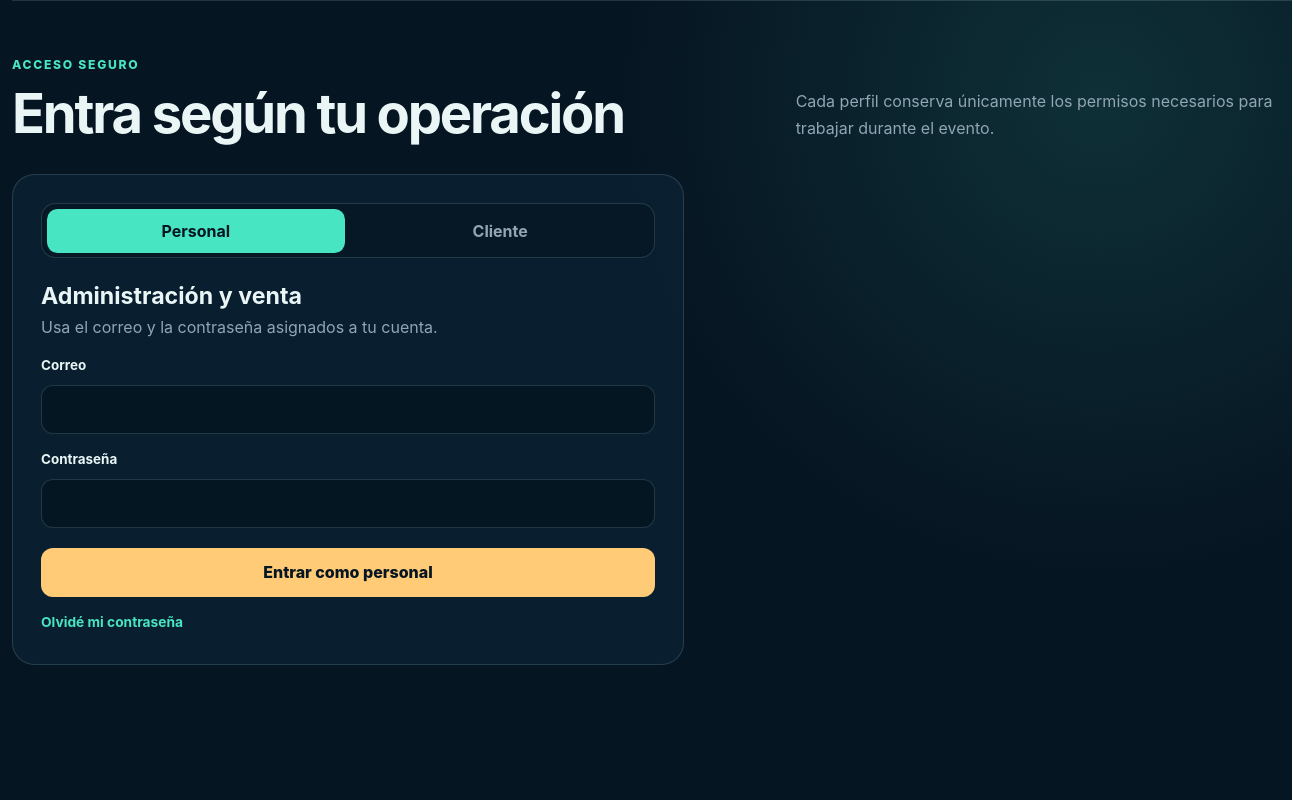
Test: AccessPortal › separa el acceso de personal y cliente e informa la vigencia temporal
Check: the heading "Administración y venta" is shown, box [41,282,302,310]
Click the tab "Cliente" at {"x": 500, "y": 231}, box [351,209,649,253]
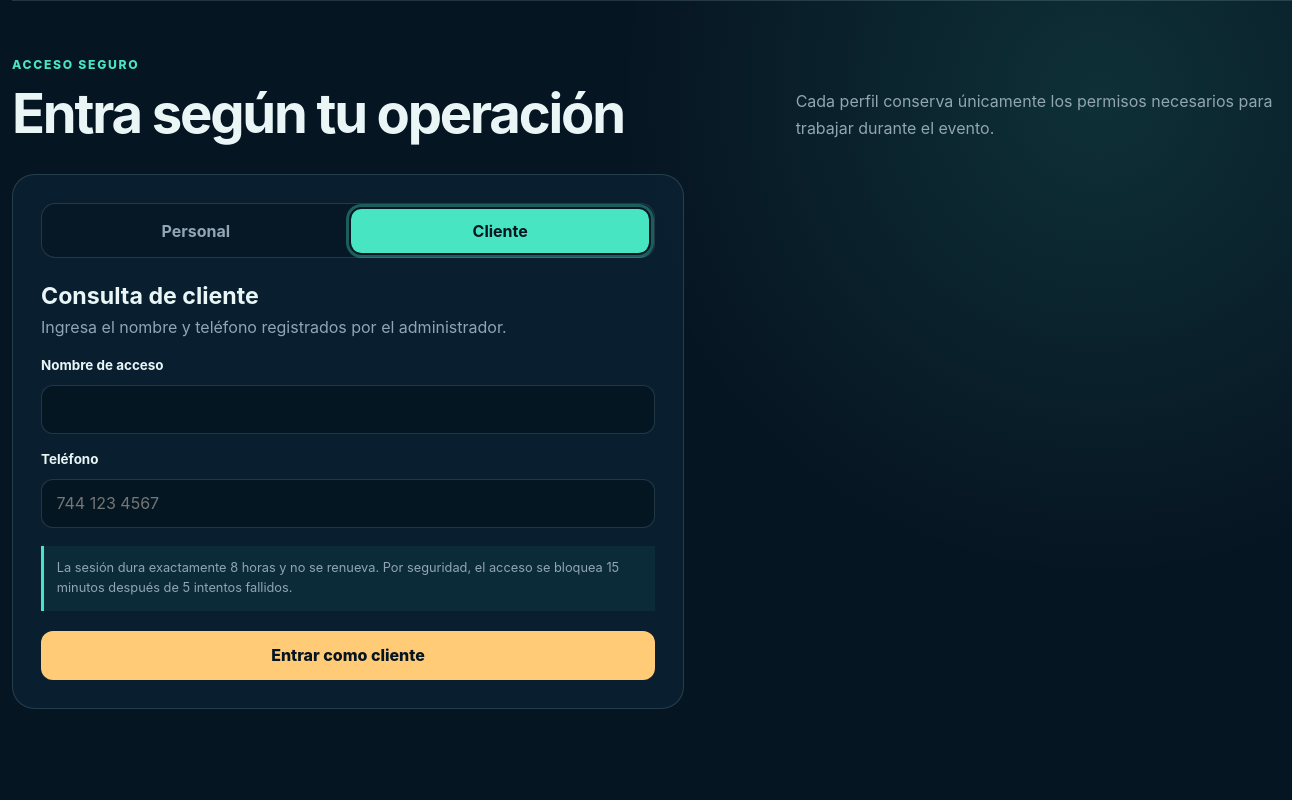
Check: the heading "Consulta de cliente" is shown, box [41,282,259,310]
Check: the text "5 intentos fallidos" is shown, box [57,560,619,595]
